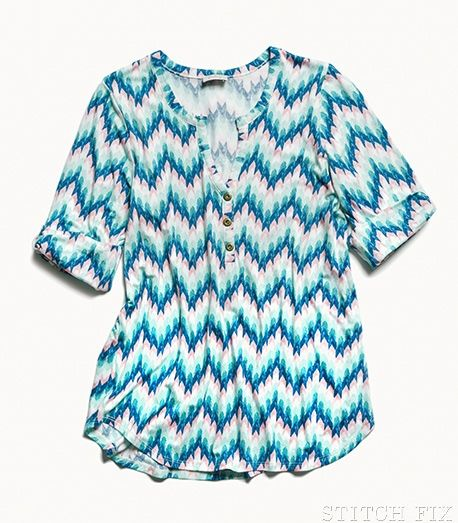C_short blouse: (26, 33, 438, 489)
